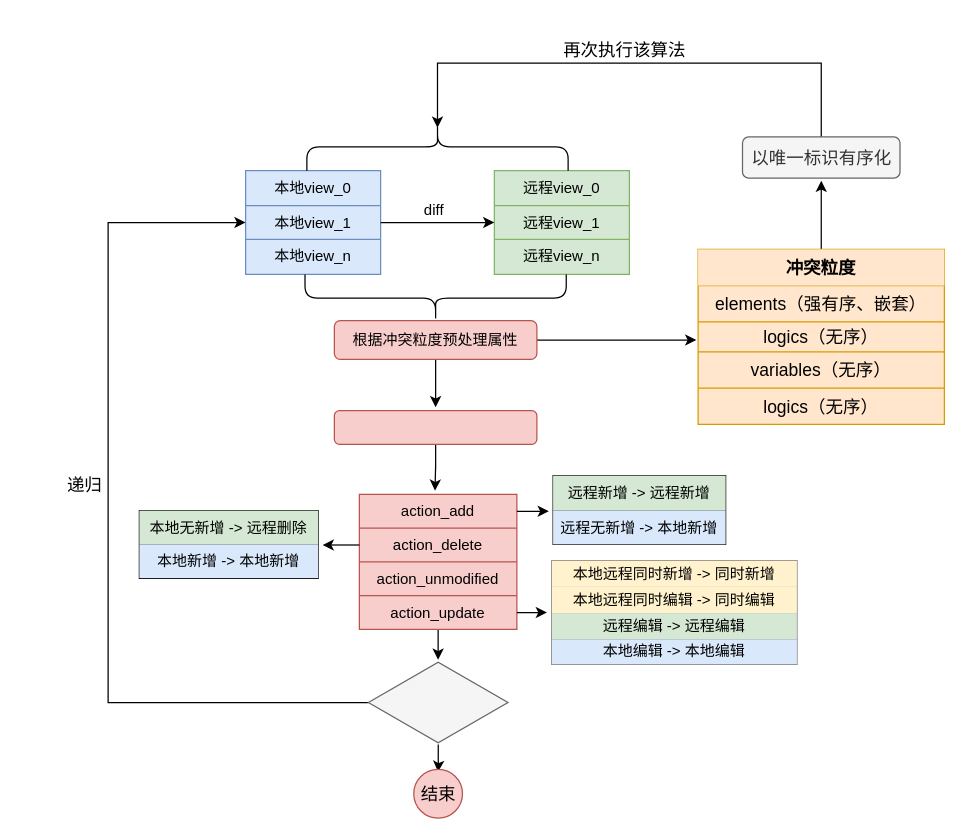
Some shapes in this 966 by 840 pixel diagram are drawn without their labels. Here are the shapes that lost their labels. From the top down, the box of each, then its label:
(333, 409, 537, 444): 确认唯一标识，执行myers
(367, 659, 508, 744): 存在children
